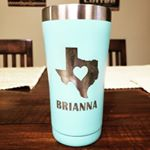cups: (39, 2, 113, 148)
